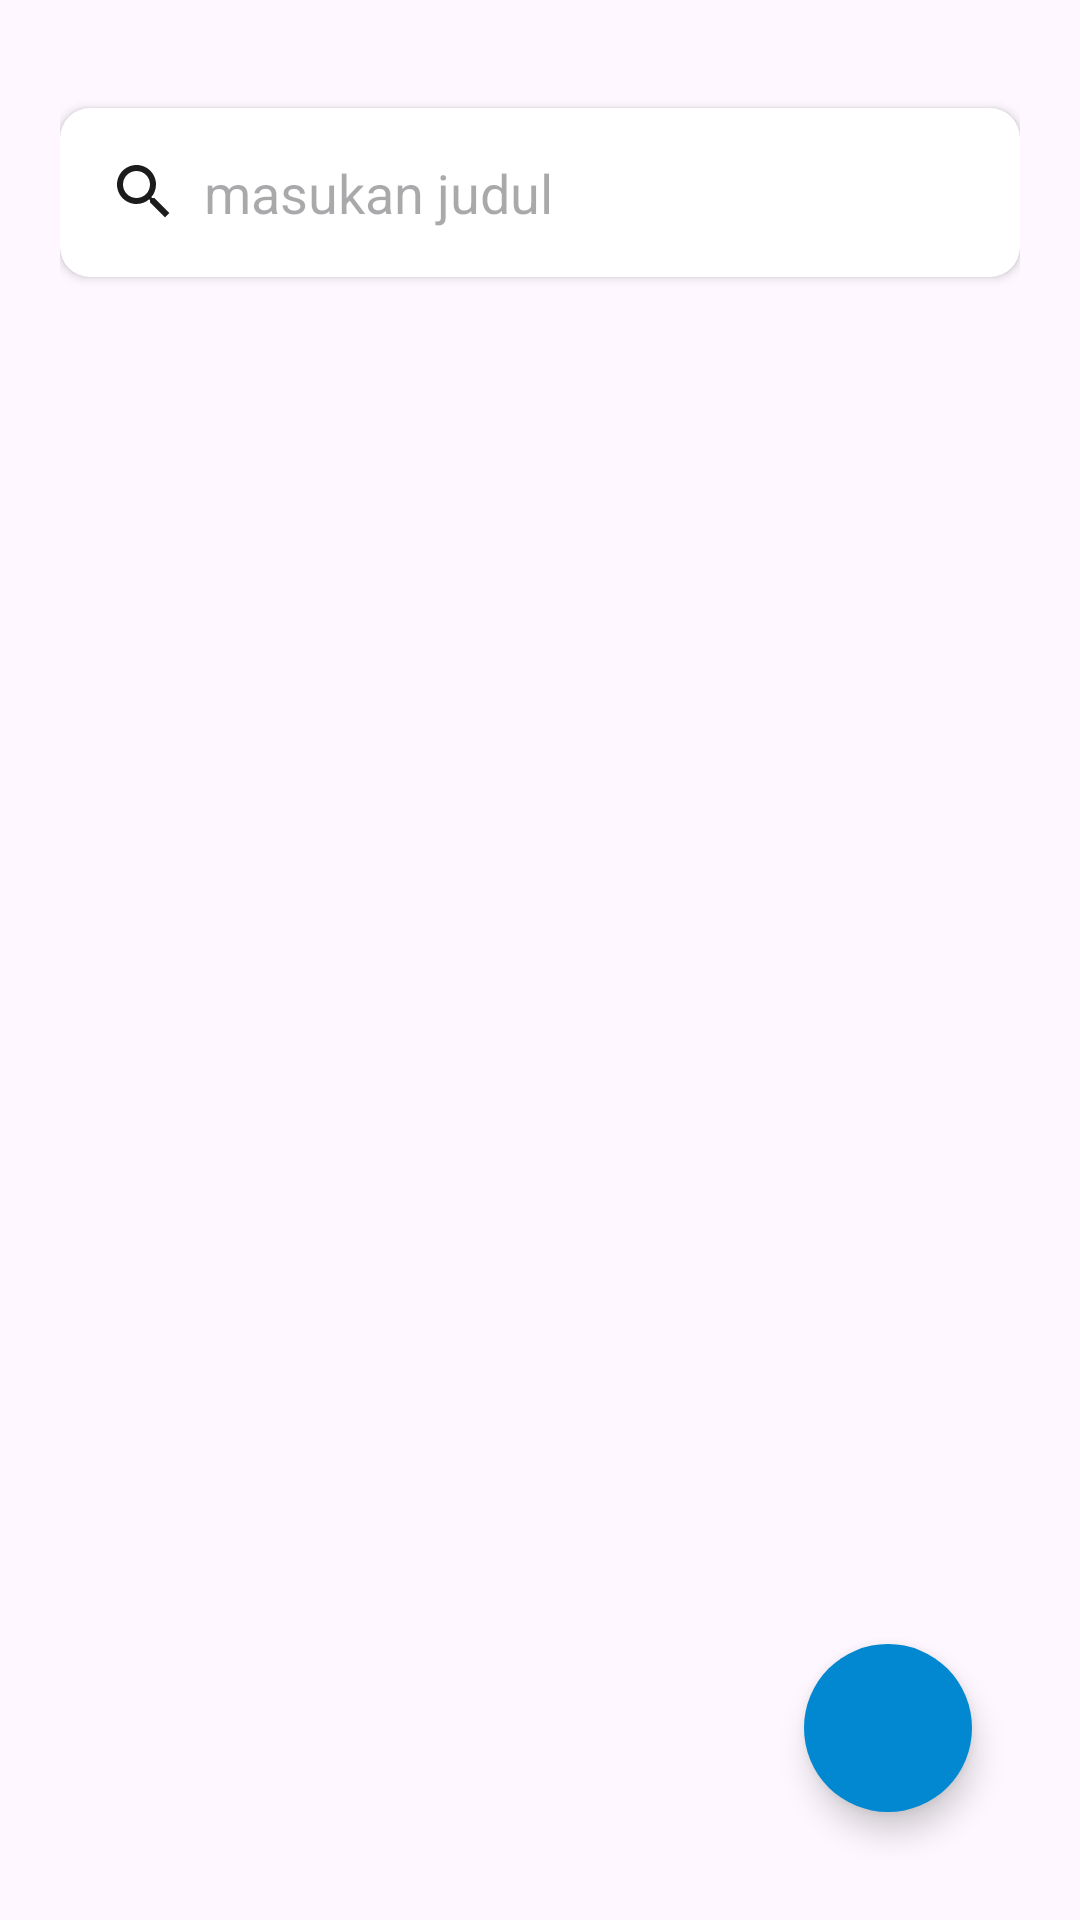

Icons on this 1080×1920 Android screen, each with the point to tap as point (x, y):
search: point (143, 191)
